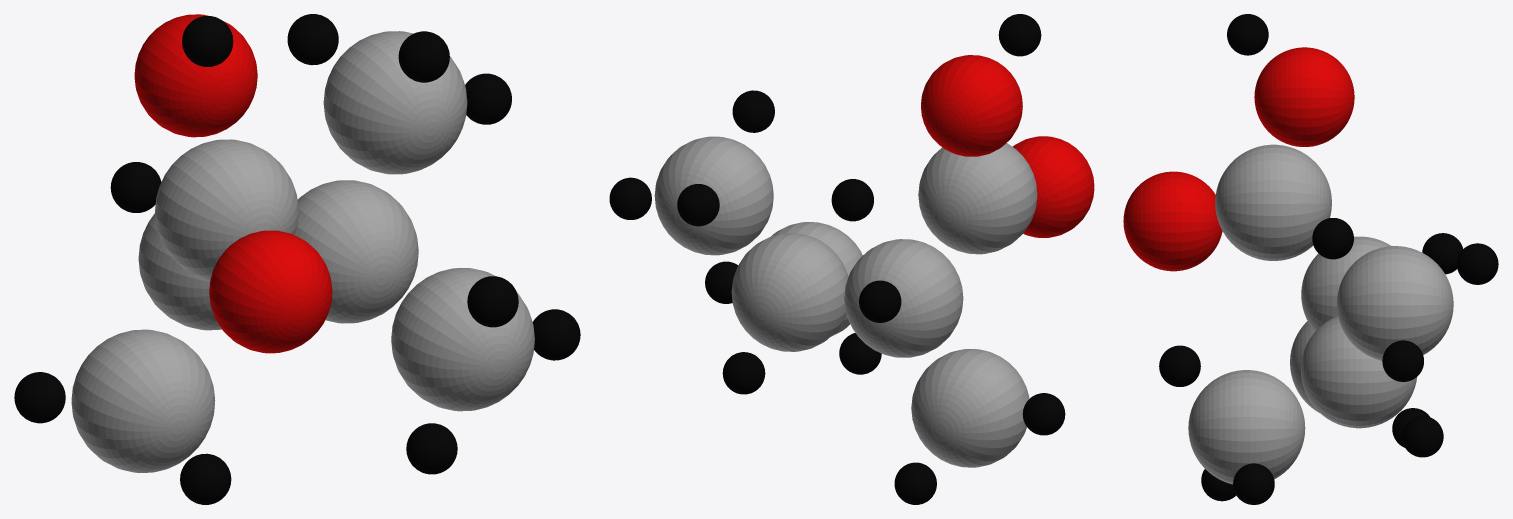
Rendered from Valine.glb.
3 renders of one model, left to right at view 1: azimuth 30°, elevation 25°; view 2: azimuth 150°, elevation 25°; view 3: azimuth 270°, elevation 25°, orthographic. The views are drawn at different scales.
Visible parts, largest first — view 1: world; view 2: world; view 3: world.
Part boxes in pixels (x1,y1,x2,y2): world: (14,14,580,504); world: (609,14,1094,504); world: (1123,14,1498,504).
Size of the model in its own units: 5.81 by 5.58 by 4.49.
